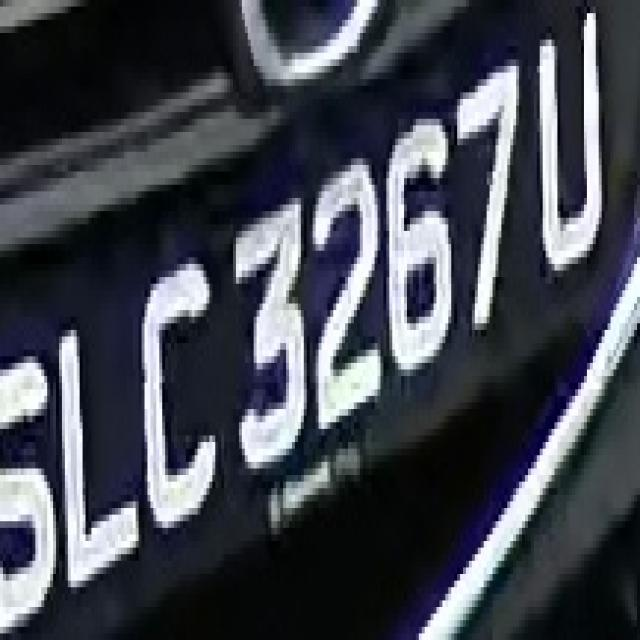2: (301, 165, 389, 462)
3: (221, 204, 310, 502)
6: (378, 106, 457, 416)
7: (451, 53, 522, 369)
C: (133, 237, 218, 561)
L: (50, 310, 136, 587)
U: (528, 33, 613, 284)
